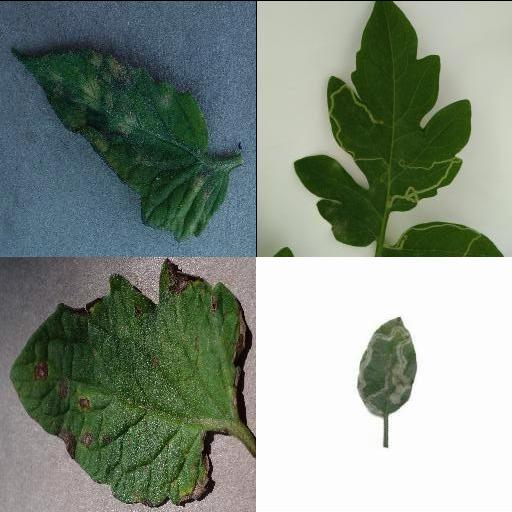Early Blight: (7, 258, 249, 506)
Leaf Miner: (291, 0, 470, 246), (359, 316, 417, 417)
Leaf Mold: (9, 45, 231, 243)
